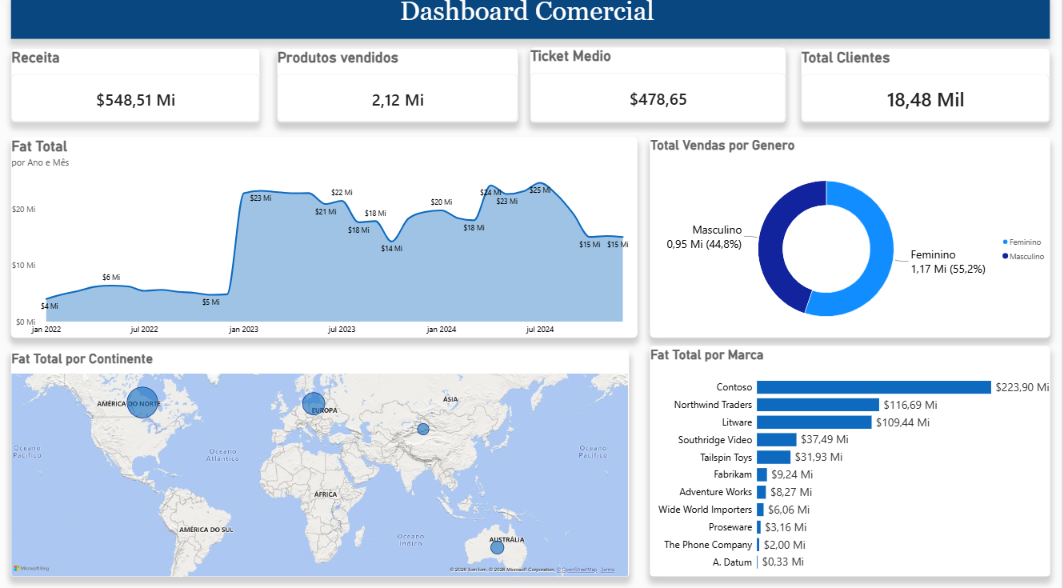

This screenshot's page, from the dashboard's own definition file:
{"tool":"powerbi","page":{"name":"Página 1","canvas":[1920,1080],"ordinal":0},"visuals":[{"type":"textbox","box":[20.4,0,1879.6,77.8],"z":0},{"type":"cardVisual","title":"Receita","fields":{"Data":["Base vendas.Fat Total"]},"box":[20,93.3,450,134.6],"z":1000},{"type":"cardVisual","title":"Produtos vendidos","fields":{"Data":["Base vendas.Total Vendas"]},"box":[501.9,94.2,436.5,134.6],"z":2000},{"type":"cardVisual","title":"Ticket Medio","fields":{"Data":["Base vendas.Ticket Medio"]},"box":[959.6,92.3,463.5,136.5],"z":3000},{"type":"cardVisual","title":"Total Clientes","fields":{"Data":["Base vendas.Qtd. Clientes"]},"box":[1450,94.2,450,134.6],"z":4000},{"type":"areaChart","fields":{"Category":["Base vendas.Data Venda.Variação.Hierarquia de datas.Ano","Base vendas.Data Venda.Variação.Hierarquia de datas.Mês"],"Y":["Base vendas.Fat Total"]},"box":[20.4,255.6,1133.3,363],"z":5000},{"type":"donutChart","fields":{"Category":["Cadastro Clientes.Genero"],"Y":["Base vendas.Total Vendas"]},"box":[1175.9,255.6,724.1,363],"z":6000},{"type":"barChart","fields":{"Category":["Cadastro Produtos.Marca"],"Y":["Base vendas.Fat Total"]},"box":[1175.9,633.3,724.1,416.7],"z":7000},{"type":"map","fields":{"Category":["Cadastro Lojas.Continente"],"Size":["Base vendas.Fat Total"]},"box":[19.9,640.6,1118.4,410.8],"z":8000}]}

Visuals, with their boxes in screenshot pixels (x1, y1, x2, y2), scaled from the page's 1920x1080 canvas onto the 1063x588 screenshot:
textbox: l=11, t=0, r=1052, b=42
"Receita" cardVisual: l=11, t=51, r=260, b=124
"Produtos vendidos" cardVisual: l=278, t=51, r=520, b=125
"Ticket Medio" cardVisual: l=531, t=50, r=788, b=125
"Total Clientes" cardVisual: l=803, t=51, r=1052, b=125
areaChart - Base vendas.Data Venda.Variação.Hierarquia de datas.Ano x Base vendas.Data Venda.Variação.Hierarquia de datas.Mês: l=11, t=139, r=639, b=337
donutChart - Cadastro Clientes.Genero x Base vendas.Total Vendas: l=651, t=139, r=1052, b=337
barChart - Cadastro Produtos.Marca x Base vendas.Fat Total: l=651, t=345, r=1052, b=572
map - Cadastro Lojas.Continente x Base vendas.Fat Total: l=11, t=349, r=630, b=572
